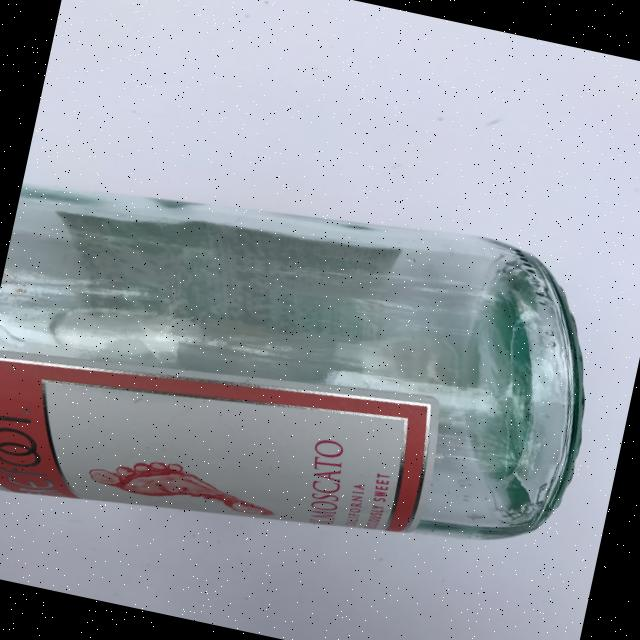glass: (0, 138, 619, 606)
